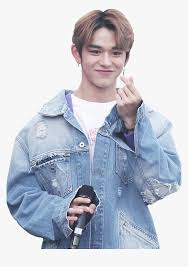people: (9, 11, 181, 248)
